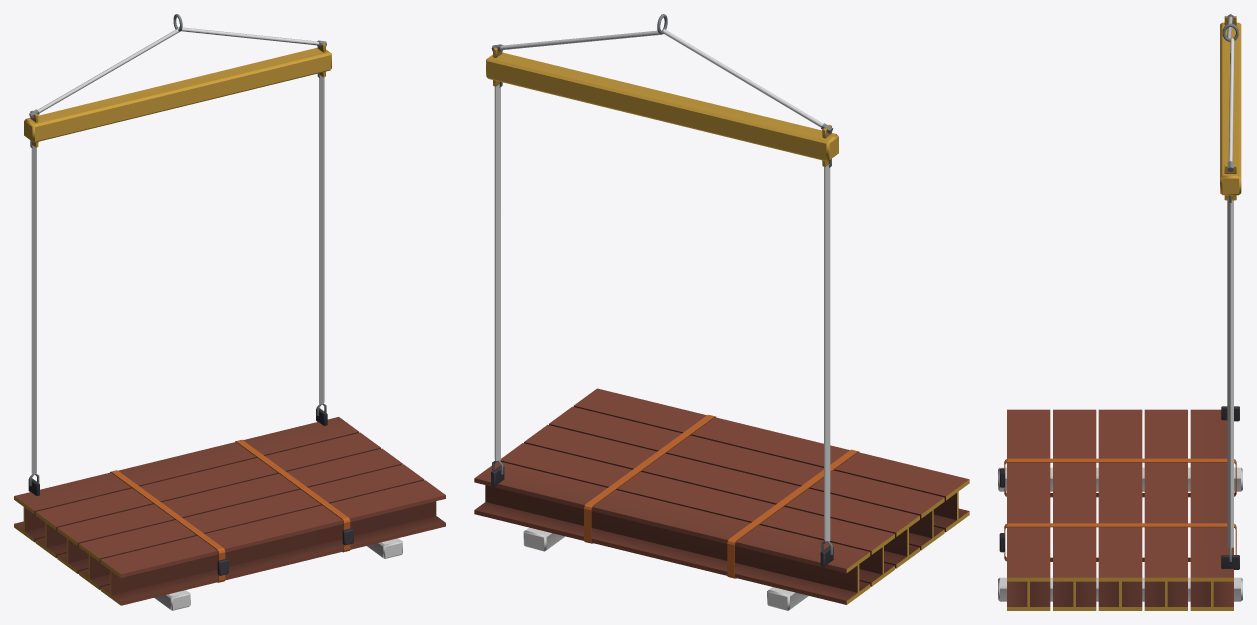
File: CraneLoad.fbx
3 renders of one model, left to right at view 1: azimuth 30°, elevation 25°; view 2: azimuth 150°, elevation 25°; view 3: azimuth 270°, elevation 25°, orthographic. The views are drawn at different scales.
Visible parts, largest first — view 1: CraneLoad; view 2: CraneLoad; view 3: CraneLoad.
Part boxes in pixels (bbox=[...]): CraneLoad: bbox=[14, 14, 445, 610]; CraneLoad: bbox=[474, 14, 969, 610]; CraneLoad: bbox=[998, 14, 1242, 610].
Bounding box in the file's own units: 2.6 × 3.74 × 1.6.
